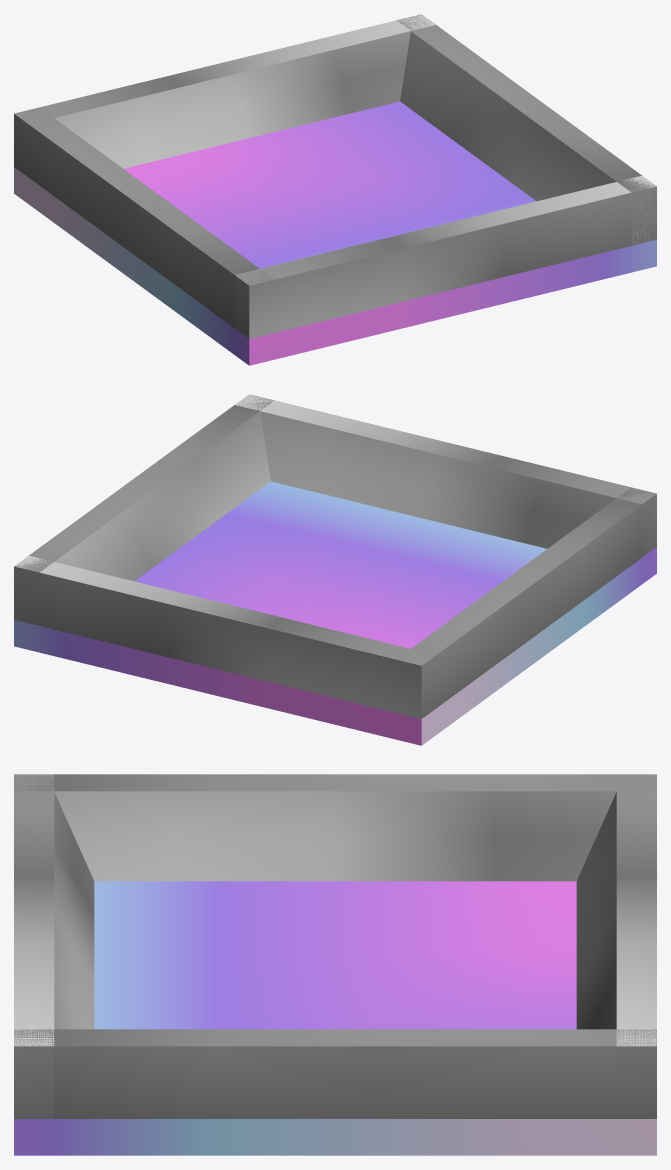
Rendered from bowl.obj.
3 views of the same model, one above another, from view 1: azimuth 30°, elevation 25°; view 2: azimuth 150°, elevation 25°; view 3: azimuth 270°, elevation 25° (orthographic). The views are drawn at different scales.
Visible parts, largest first — view 1: entity0_brush0, entity0_brush2, entity0_brush7, entity0_brush3, entity0_brush6, entity0_brush1, entity0_brush4; view 2: entity0_brush0, entity0_brush1, entity0_brush8, entity0_brush3, entity0_brush6, entity0_brush2, entity0_brush4; view 3: entity0_brush0, entity0_brush4, entity0_brush5, entity0_brush2, entity0_brush1, entity0_brush3, entity0_brush7, entity0_brush8.
Boxes of the visible parts, x1,y1,x2,y2 form: entity0_brush0: (14,101,656,365); entity0_brush2: (234,175,656,338); entity0_brush7: (54,31,410,168); entity0_brush3: (14,107,274,338); entity0_brush6: (400,31,616,201); entity0_brush1: (14,14,435,177); entity0_brush4: (396,14,656,244); entity0_brush0: (14,481,656,745); entity0_brush1: (14,555,436,718); entity0_brush8: (260,411,616,548); entity0_brush3: (396,487,656,718); entity0_brush6: (54,411,270,581); entity0_brush2: (235,394,656,554); entity0_brush4: (14,394,273,622); entity0_brush0: (14,881,656,1155); entity0_brush4: (14,1029,656,1118); entity0_brush5: (54,791,616,881); entity0_brush2: (14,774,54,1118); entity0_brush1: (616,774,656,1118); entity0_brush3: (14,774,656,791); entity0_brush7: (576,792,616,1029); entity0_brush8: (54,792,94,1029).
Size of the model in its own units: 16 by 3 by 16.
Materials: 2 (2 with a texture image).
